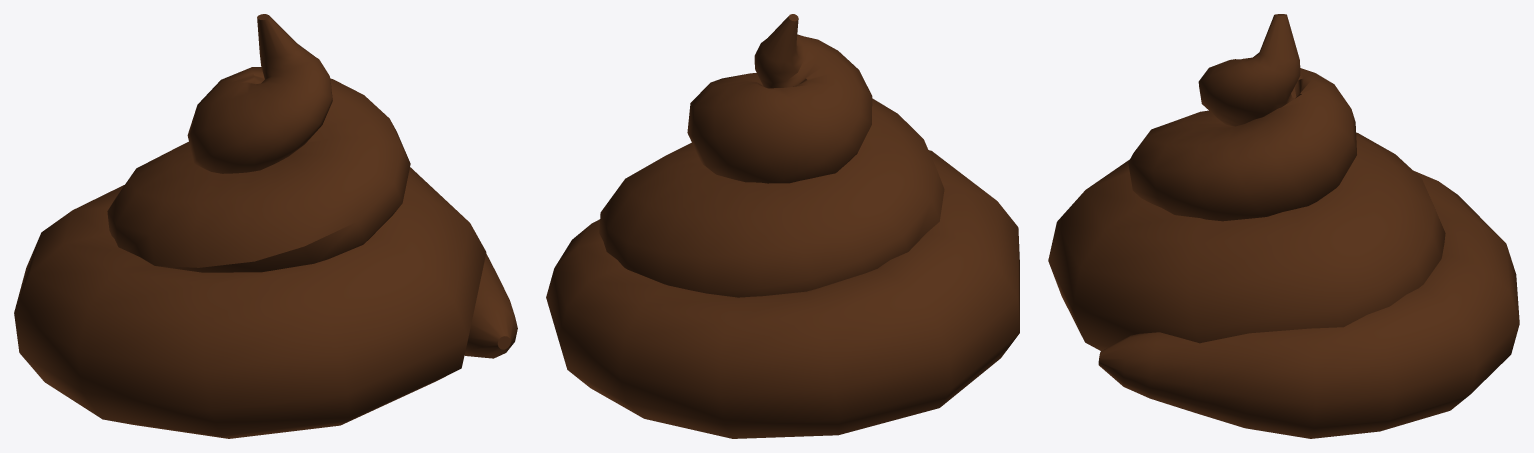
Rendered from POOP.fbx.
3 renders of one model, left to right at view 1: azimuth 30°, elevation 25°; view 2: azimuth 150°, elevation 25°; view 3: azimuth 270°, elevation 25°, orthographic. The views are drawn at different scales.
Parts seen in each view (by area): view 1: Cylinder; view 2: Cylinder; view 3: Cylinder.
Part boxes in pixels (x1,y1,x2,y2): Cylinder: (14, 14, 517, 438); Cylinder: (546, 14, 1019, 438); Cylinder: (1048, 14, 1519, 438).
Bounding box in the file's own units: 142 × 115 × 141.
